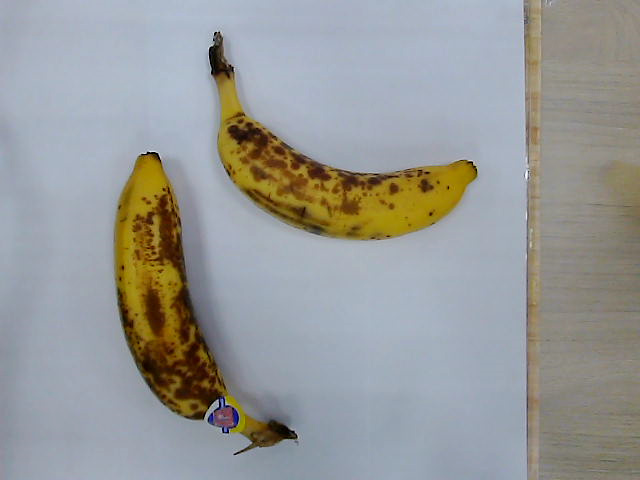rotten_banana: (208, 33, 477, 241), (114, 152, 300, 451)
